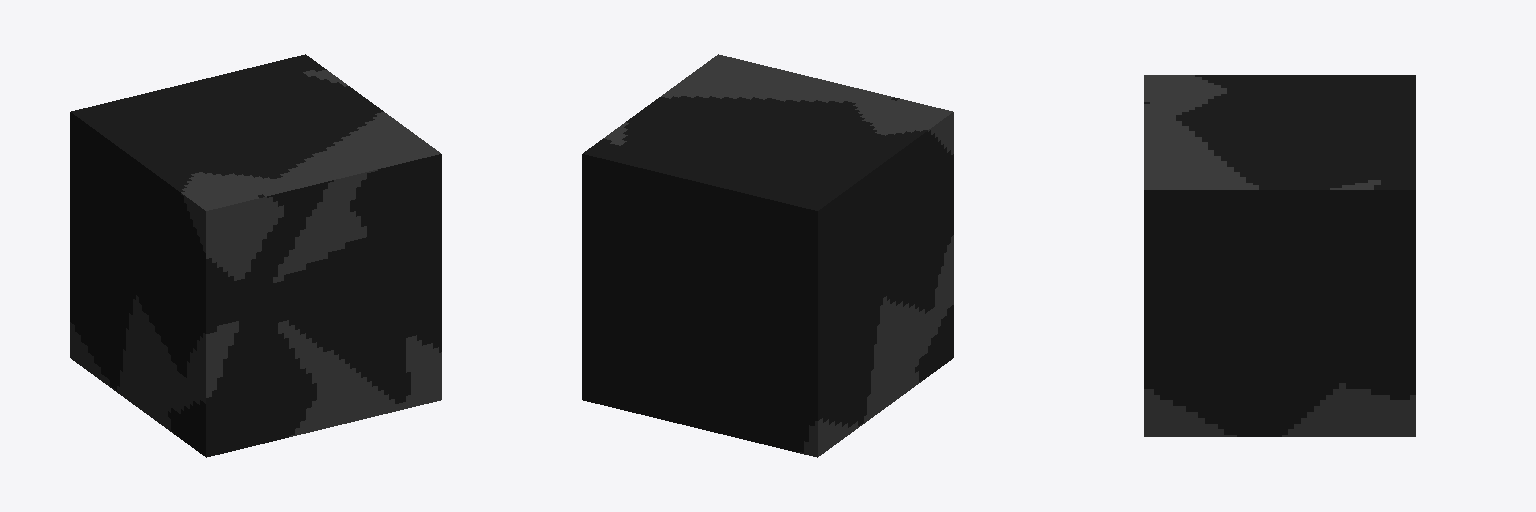
3 renders of one model, left to right at view 1: azimuth 30°, elevation 25°; view 2: azimuth 150°, elevation 25°; view 3: azimuth 270°, elevation 25°, orthographic.
Visible parts, largest first — view 1: Cube; view 2: Cube; view 3: Cube.
Boxes of the visible parts, x1,y1,x2,y2 form: Cube: [70, 54, 441, 457]; Cube: [582, 54, 953, 457]; Cube: [1144, 75, 1415, 436].
Size of the model in its own units: 2 by 2 by 2.
1 materials, 1 textured.